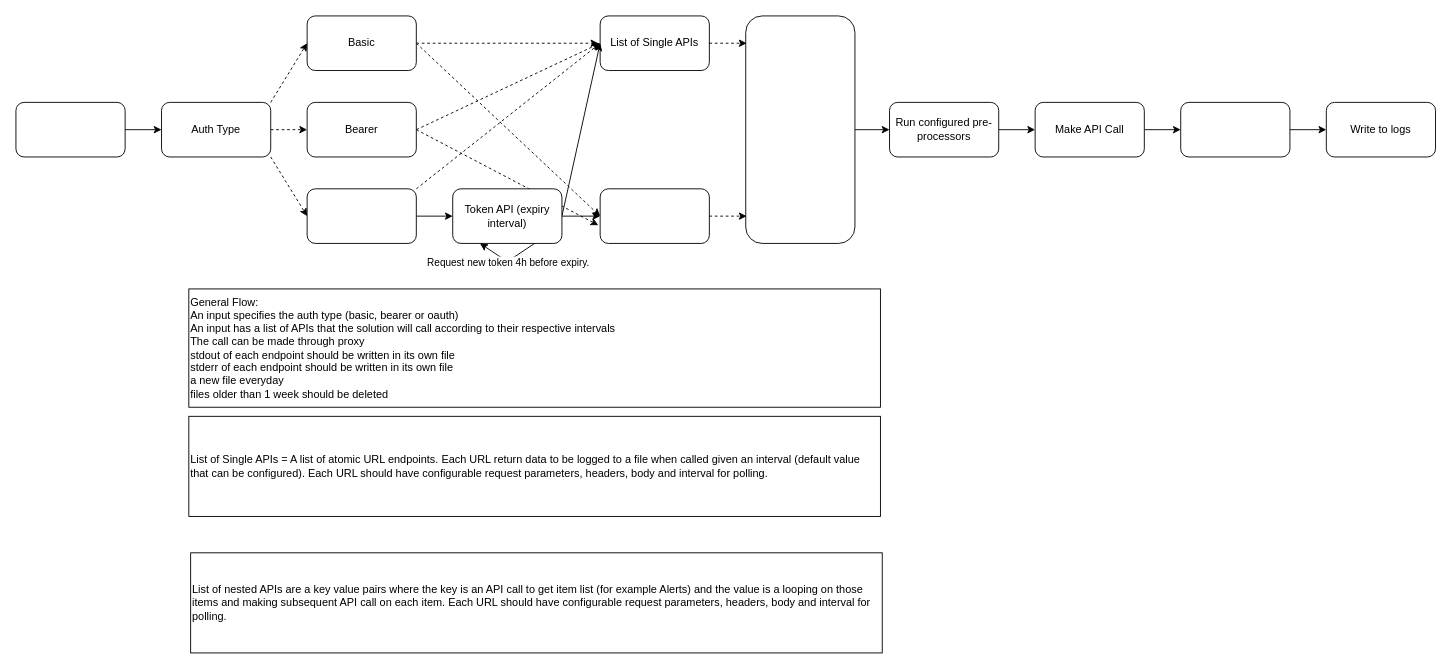
The diagram is 1451 pixels wide and 669 high, and some of its shapes have lost their labels. The centre of each missing label's shape, as x and y in pixels:
Input Json: the point at 70,129
List of nested APIs: the point at 654,215
Oauth (GRANT client credentials): the point at 361,215
Proxy: the point at 800,129
Run configured post-processors: the point at 1235,129
